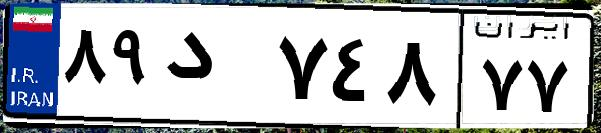4: (330, 28, 385, 110)
7: (270, 28, 330, 110), (475, 38, 525, 113), (525, 38, 570, 115)
8: (385, 28, 445, 110), (57, 26, 110, 100)
9: (110, 28, 158, 98)
د: (158, 20, 270, 120)
